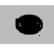correct: (8, 12, 45, 38)
